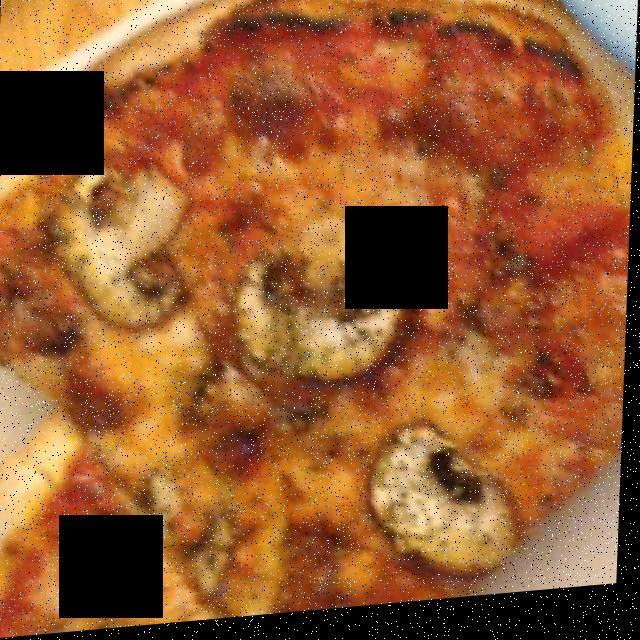mushrooms: (71, 170, 535, 583)
pizza: (0, 0, 609, 630)
